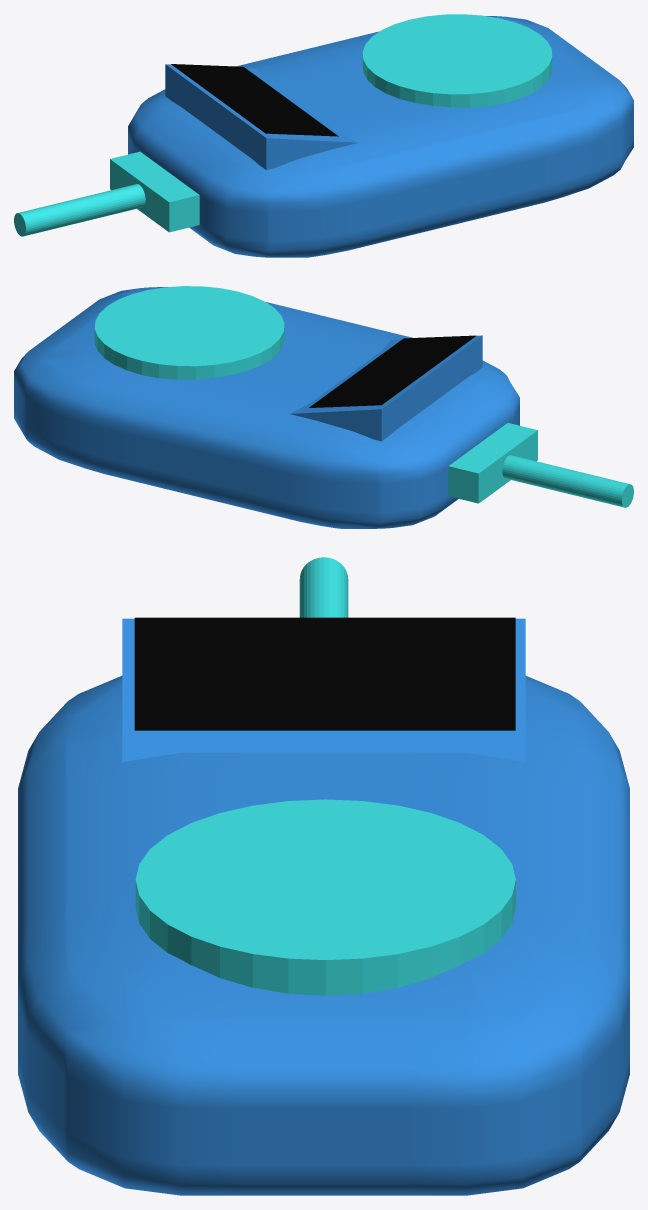
Rendered from DebuggerTool.fbx.
3 renders of one model, top to bottom at view 1: azimuth 30°, elevation 25°; view 2: azimuth 150°, elevation 25°; view 3: azimuth 270°, elevation 25°, orthographic. The views are drawn at different scales.
Parts seen in each view (by area): view 1: Mball, Cylinder, Cube, Plane, Cube.001, Cylinder.001; view 2: Mball, Cylinder, Cube, Plane, Cube.001, Cylinder.001; view 3: Mball, Cylinder, Plane, Cube, Cylinder.001.
Part boxes in pixels (box(x1,y1,x2,y2)): Mball: box(128, 16, 633, 257); Cylinder: box(362, 14, 552, 107); Cube: box(165, 64, 358, 170); Plane: box(171, 64, 338, 136); Cube.001: box(110, 151, 199, 232); Cylinder.001: box(14, 184, 145, 236); Mball: box(14, 287, 519, 528); Cylinder: box(94, 286, 284, 379); Cube: box(290, 335, 482, 441); Plane: box(309, 335, 476, 407); Cube.001: box(448, 423, 537, 503); Cylinder.001: box(502, 455, 633, 507); Mball: box(18, 676, 629, 1195); Cylinder: box(135, 799, 515, 995); Plane: box(134, 617, 515, 730); Cube: box(122, 618, 525, 762); Cylinder.001: box(299, 557, 348, 617).
Size of the model in its own units: 273 by 58.43 by 126.
